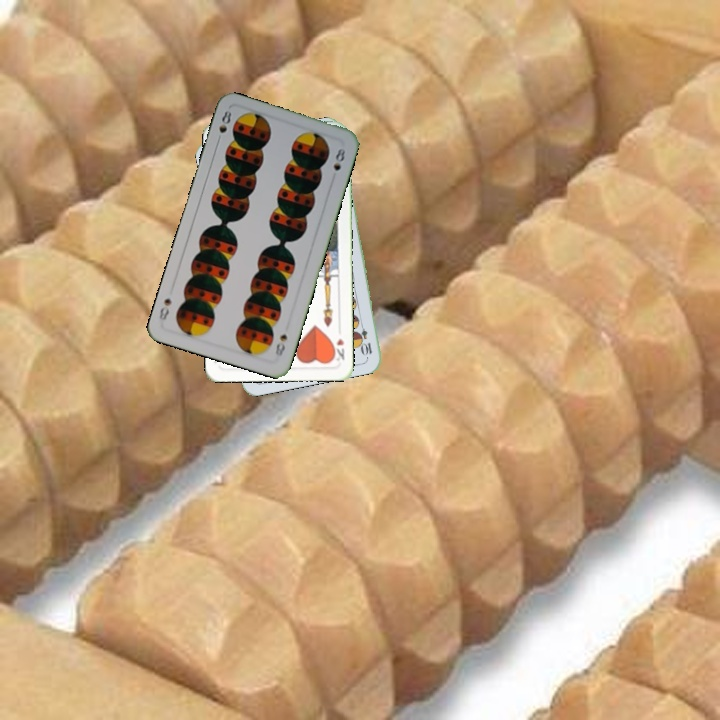E10: (355, 317, 375, 358)
HK: (329, 334, 347, 363)
S8: (213, 105, 234, 146), (271, 330, 290, 360)
